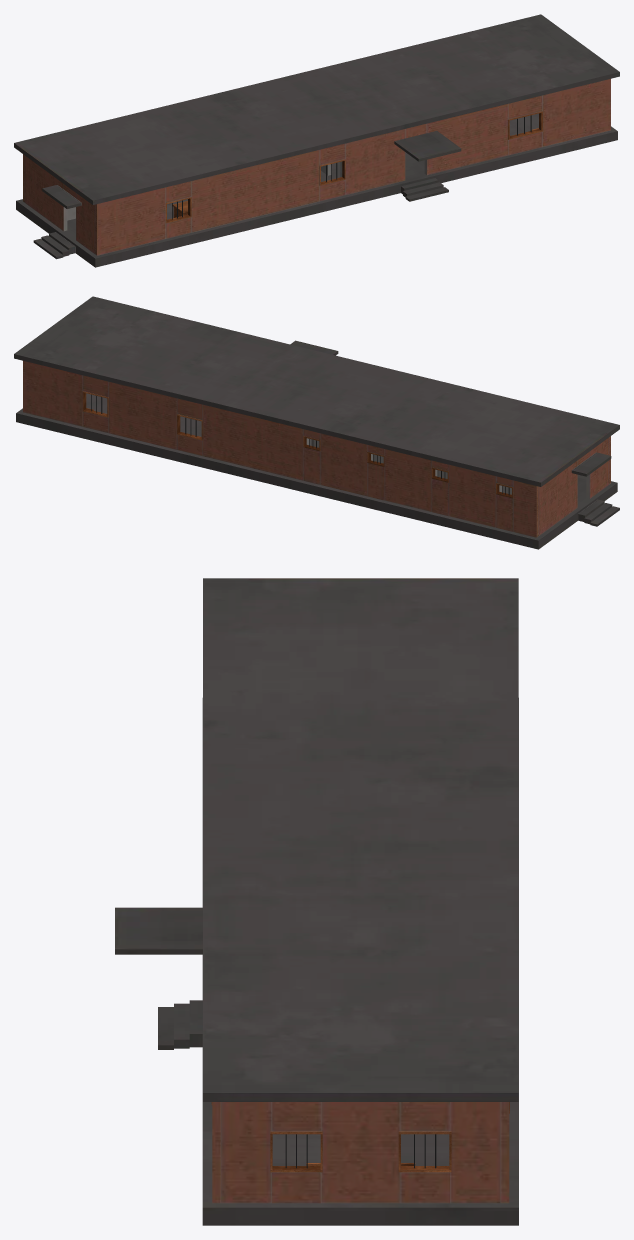
The model's file is police-station.glb.
3 views of the same model, one above another, from view 1: azimuth 30°, elevation 25°; view 2: azimuth 150°, elevation 25°; view 3: azimuth 270°, elevation 25° (orthographic). The views are drawn at different scales.
Parts seen in each view (by area): view 1: Floor_Tiled_Surface, Wall_Ext_Front, Foundation_Concrete_Slab, Wall_Ext_Left_Entrance, Entrance_Awning_Canopy.001, Entrance_Awning_Canopy, Window_Frame_Front_03; view 2: Floor_Tiled_Surface, Wall_Ext_Back, Foundation_Concrete_Slab, Wall_Ext_Left_Entrance, Entrance_Awning_Canopy; view 3: Floor_Tiled_Surface, Wall_Ext_Right, Foundation_Concrete_Slab, Entrance_Awning_Canopy.001, Wall_Ext_Back, Window_Frame_Right_02, Window_Frame_Right_01, Wall_Ext_Front.
Boxes of the visible parts, bbox=[...] form: Floor_Tiled_Surface: bbox=[14, 14, 619, 204]; Wall_Ext_Front: bbox=[95, 79, 610, 255]; Foundation_Concrete_Slab: bbox=[16, 113, 617, 267]; Wall_Ext_Left_Entrance: bbox=[25, 156, 94, 253]; Entrance_Awning_Canopy.001: bbox=[394, 131, 461, 161]; Entrance_Awning_Canopy: bbox=[42, 185, 81, 208]; Window_Frame_Front_03: bbox=[508, 111, 542, 139]; Floor_Tiled_Surface: bbox=[14, 296, 619, 486]; Wall_Ext_Back: bbox=[23, 361, 538, 537]; Foundation_Concrete_Slab: bbox=[16, 393, 617, 549]; Wall_Ext_Left_Entrance: bbox=[539, 437, 608, 535]; Entrance_Awning_Canopy: bbox=[571, 452, 611, 476]; Floor_Tiled_Surface: bbox=[203, 578, 518, 1101]; Wall_Ext_Right: bbox=[220, 1102, 500, 1203]; Foundation_Concrete_Slab: bbox=[202, 698, 518, 1225]; Entrance_Awning_Canopy.001: bbox=[115, 907, 202, 954]; Wall_Ext_Back: bbox=[500, 1102, 509, 1203]; Window_Frame_Right_02: bbox=[398, 1131, 451, 1172]; Window_Frame_Right_01: bbox=[270, 1131, 322, 1172]; Wall_Ext_Front: bbox=[212, 1102, 220, 1203].
Bounding box in the file's own units: 127 × 15.05 × 40.87.
Materials: 2 (2 with a texture image).
